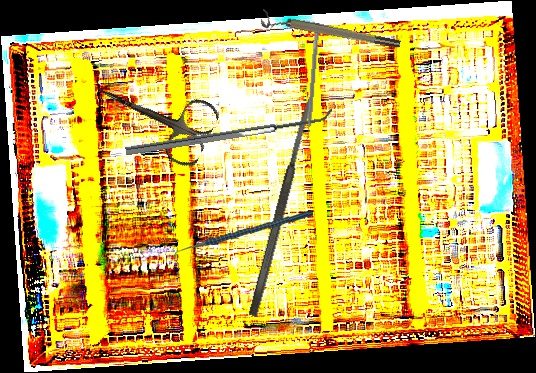Chopper: (167, 203, 314, 271)
Fixation Ring: (259, 8, 402, 57)
Iris Scissors: (82, 56, 223, 172)
Spatula Surgical: (246, 96, 317, 318), (124, 106, 334, 156), (301, 22, 320, 144)
